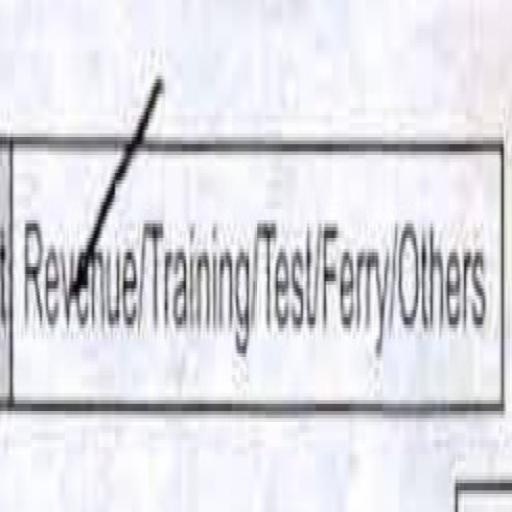check: (11, 0, 140, 372)
